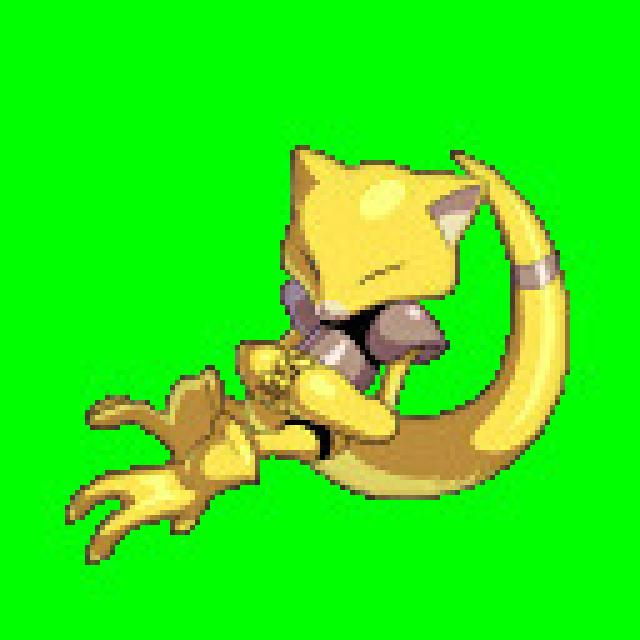Abra: (83, 151, 570, 542)
